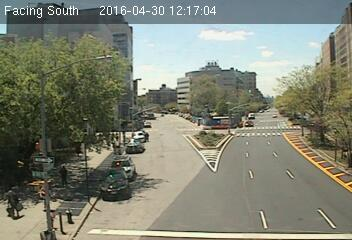neg: (213, 164, 248, 211), (161, 139, 194, 183), (43, 63, 73, 103), (288, 102, 317, 141), (77, 43, 102, 77), (259, 171, 283, 203), (94, 159, 118, 190), (111, 98, 134, 129), (229, 110, 250, 139), (128, 39, 148, 66), (280, 34, 297, 56), (166, 34, 182, 56), (205, 48, 221, 69), (59, 207, 75, 227), (203, 90, 218, 110), (274, 88, 288, 107), (172, 92, 186, 110)
pos: (6, 182, 35, 221), (57, 162, 74, 185)
